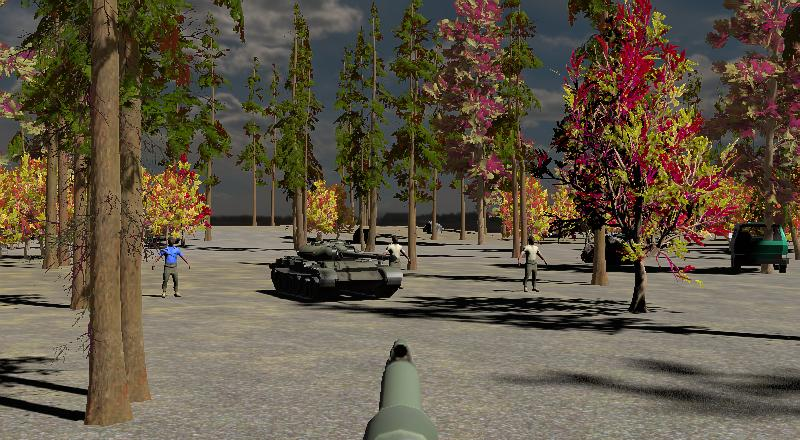Human: (153, 235, 191, 299), (517, 234, 548, 294)
Tank: (268, 236, 405, 303)
car: (729, 218, 790, 274)
